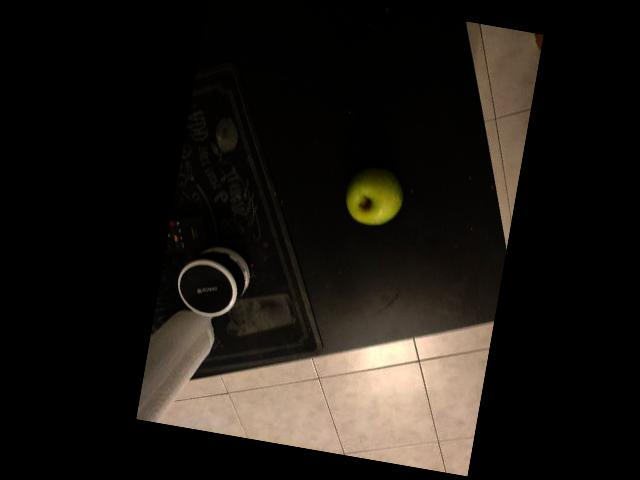apple: (367, 281, 471, 367)
